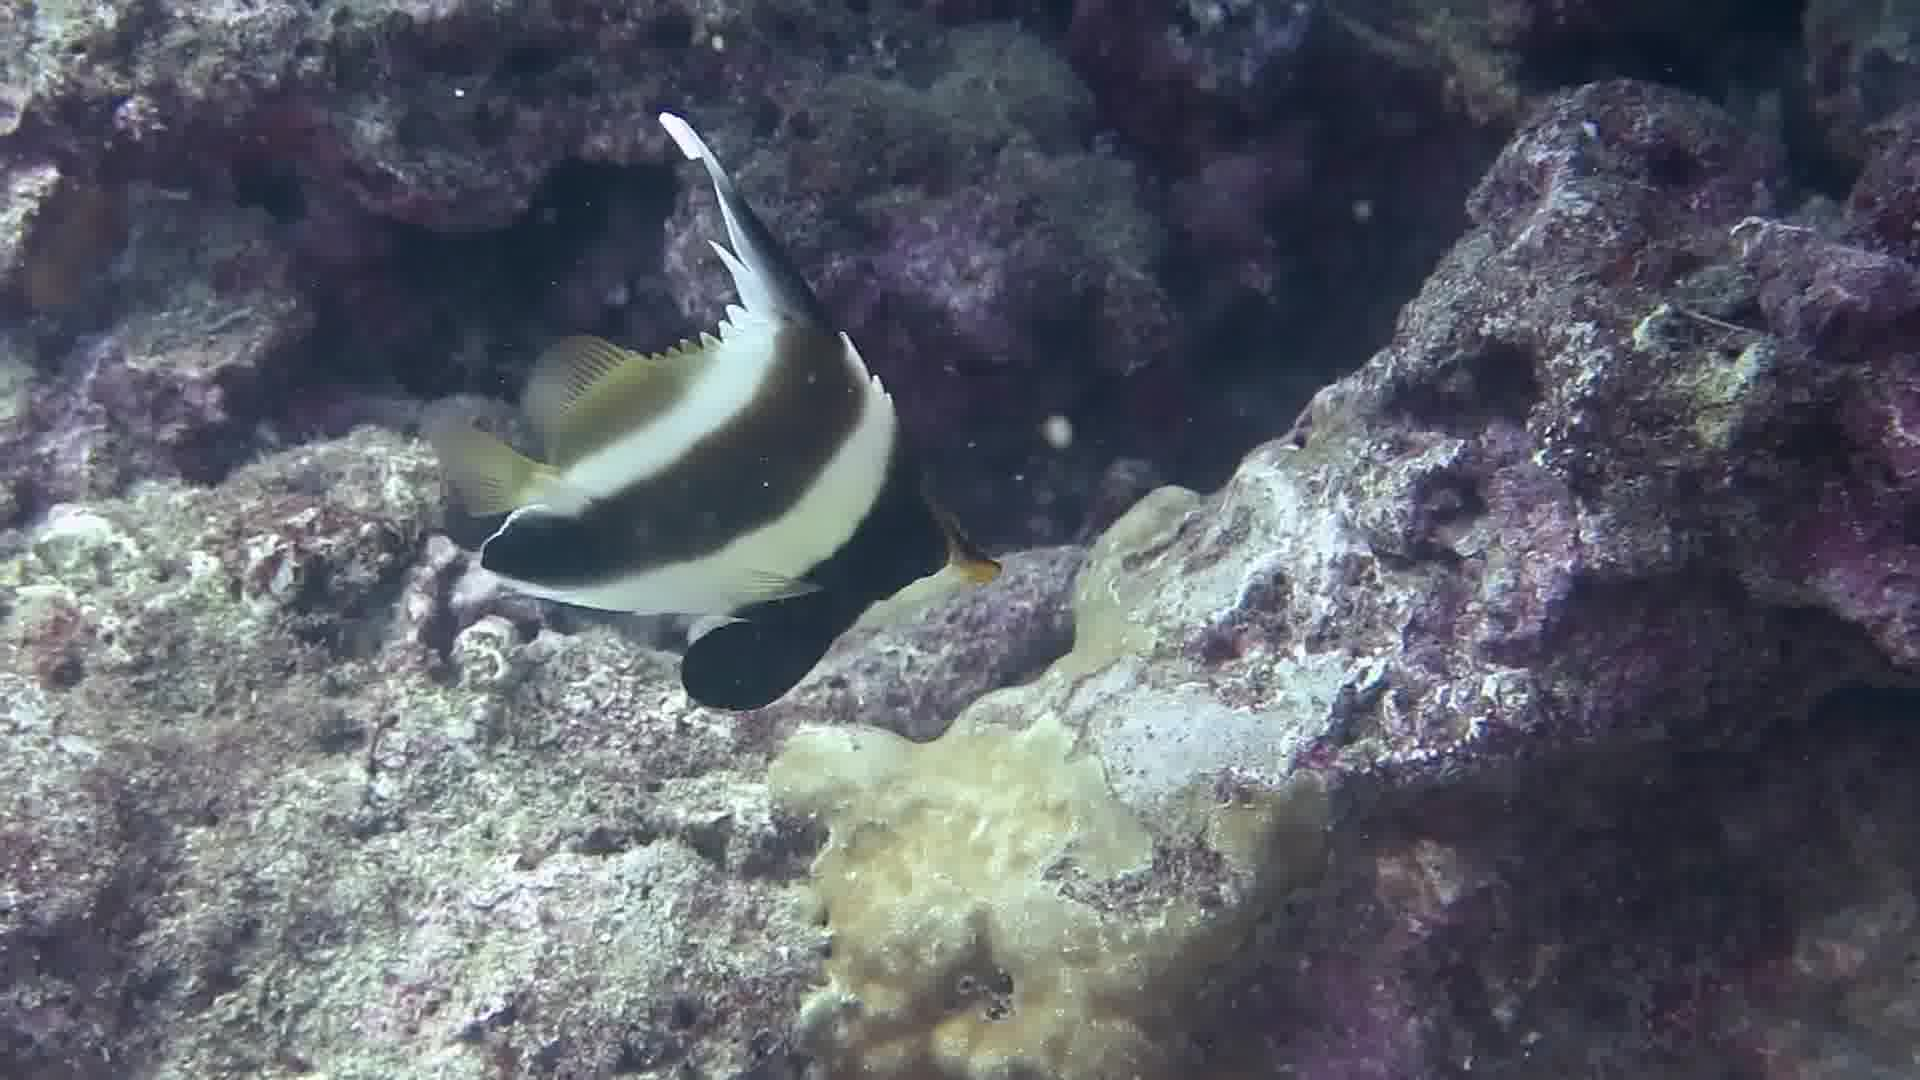Heniochus chrysostomus: (431, 86, 1058, 738)
